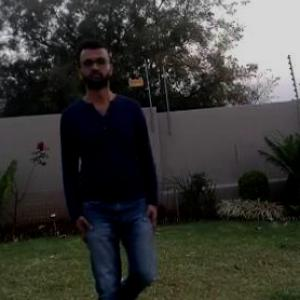follow: (62, 44, 157, 299)
